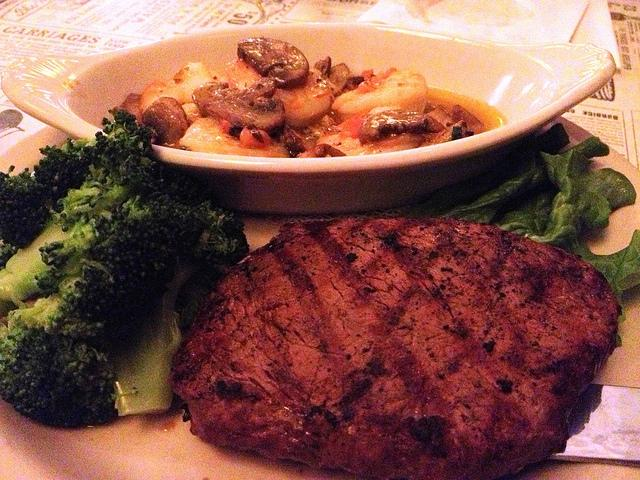broccoli: (0, 108, 179, 350)
mushroom: (194, 76, 286, 132), (238, 37, 310, 87), (275, 68, 334, 128), (358, 108, 447, 146), (142, 96, 190, 142), (450, 104, 484, 132), (120, 93, 144, 122), (329, 62, 350, 90)
